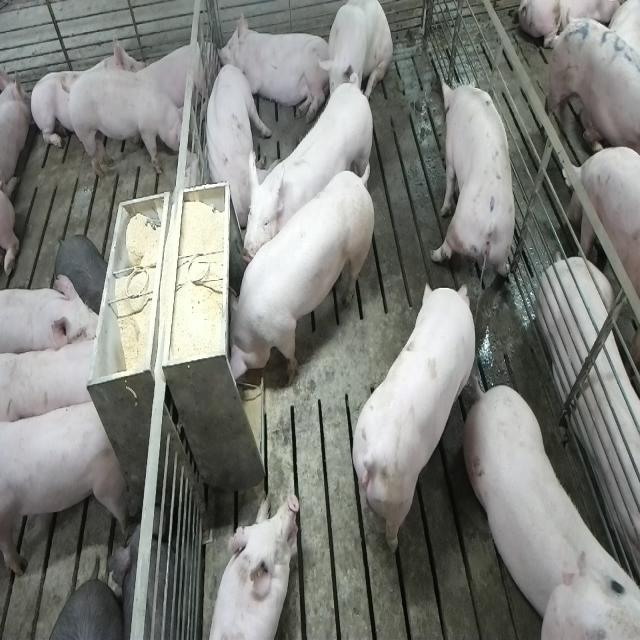Feeding: (218, 164, 370, 390)
Sitting: (203, 61, 267, 222), (319, 2, 393, 124)
Standing: (460, 376, 634, 630), (346, 283, 476, 556), (242, 76, 378, 268), (1, 393, 130, 581), (432, 73, 517, 295), (548, 11, 640, 173), (63, 70, 193, 178), (1, 328, 101, 428), (0, 275, 103, 359), (44, 578, 124, 638)
Sternal_lying: (32, 30, 144, 156), (203, 490, 297, 640), (215, 12, 329, 128), (139, 34, 213, 120)
